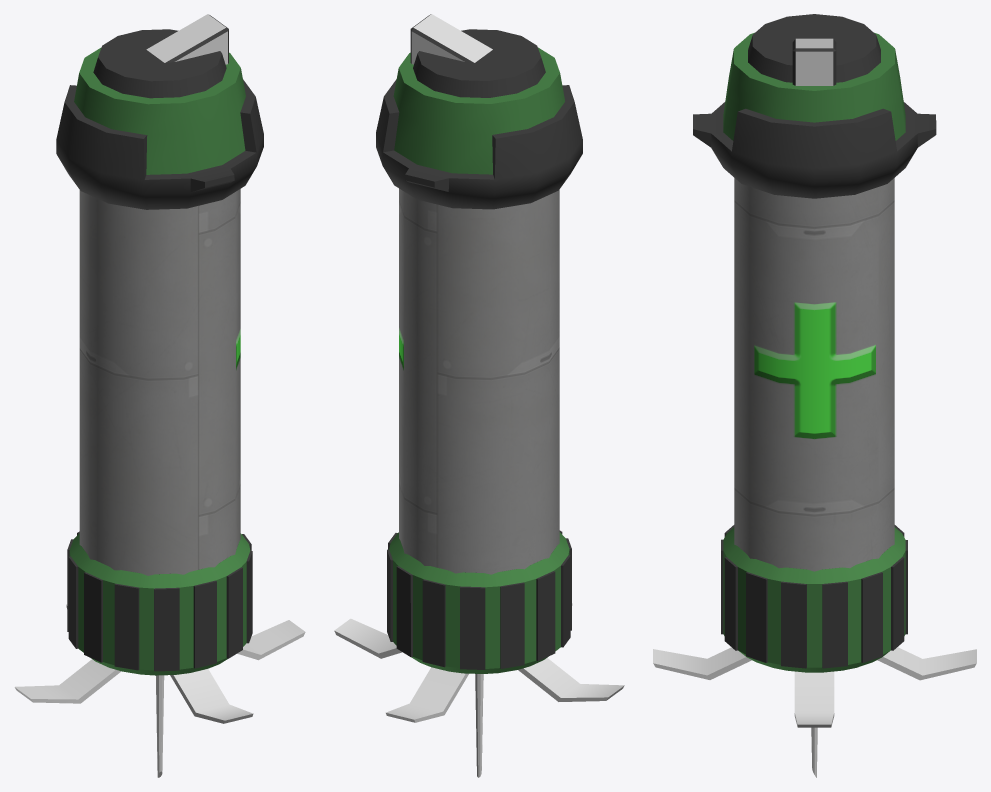
The model's file is 32_YEEZIHAO_HealthStim.fbx.
The picture shows the model from 3 angles, left to right: view 1: azimuth 30°, elevation 25°; view 2: azimuth 150°, elevation 25°; view 3: azimuth 270°, elevation 25°; orthographic projection. The views are drawn at different scales.
Parts seen in each view (by area): view 1: pCylinder1, pCylinder2, pCylinder3, pCylinder4, pCube1, pCube2, pCube4, pCube5, pCylinder5; view 2: pCylinder1, pCylinder2, pCylinder3, pCylinder4, pCube1, pCube3, pCube4, pCube5, pCylinder5; view 3: pCylinder1, pCylinder2, pCylinder3, pCylinder4, pCube5, pCube1, pCube3, pCube2.
Part boxes in pixels (bbox=[...]): pCylinder1: bbox=[79, 189, 240, 575]; pCylinder2: bbox=[56, 47, 263, 209]; pCylinder3: bbox=[67, 531, 252, 675]; pCylinder4: bbox=[93, 29, 226, 98]; pCube1: bbox=[146, 14, 228, 64]; pCube2: bbox=[170, 669, 253, 723]; pCube4: bbox=[14, 659, 120, 703]; pCube5: bbox=[237, 620, 305, 660]; pCylinder5: bbox=[156, 675, 164, 777]; pCylinder1: bbox=[399, 188, 559, 574]; pCylinder2: bbox=[376, 47, 582, 209]; pCylinder3: bbox=[387, 530, 571, 673]; pCylinder4: bbox=[413, 29, 545, 97]; pCube1: bbox=[410, 14, 492, 64]; pCube3: bbox=[386, 667, 468, 722]; pCube4: bbox=[518, 658, 624, 701]; pCube5: bbox=[334, 618, 402, 658]; pCylinder5: bbox=[475, 674, 483, 777]; pCylinder1: bbox=[734, 178, 894, 571]; pCylinder2: bbox=[693, 32, 936, 198]; pCylinder3: bbox=[721, 525, 907, 672]; pCylinder4: bbox=[748, 14, 880, 82]; pCube5: bbox=[794, 671, 834, 727]; pCube1: bbox=[792, 38, 836, 85]; pCube3: bbox=[877, 647, 976, 680]; pCube2: bbox=[653, 647, 751, 679].
Bounding box in the file's own units: 3.93 × 10.18 × 3.94.
4 materials, 1 textured.
